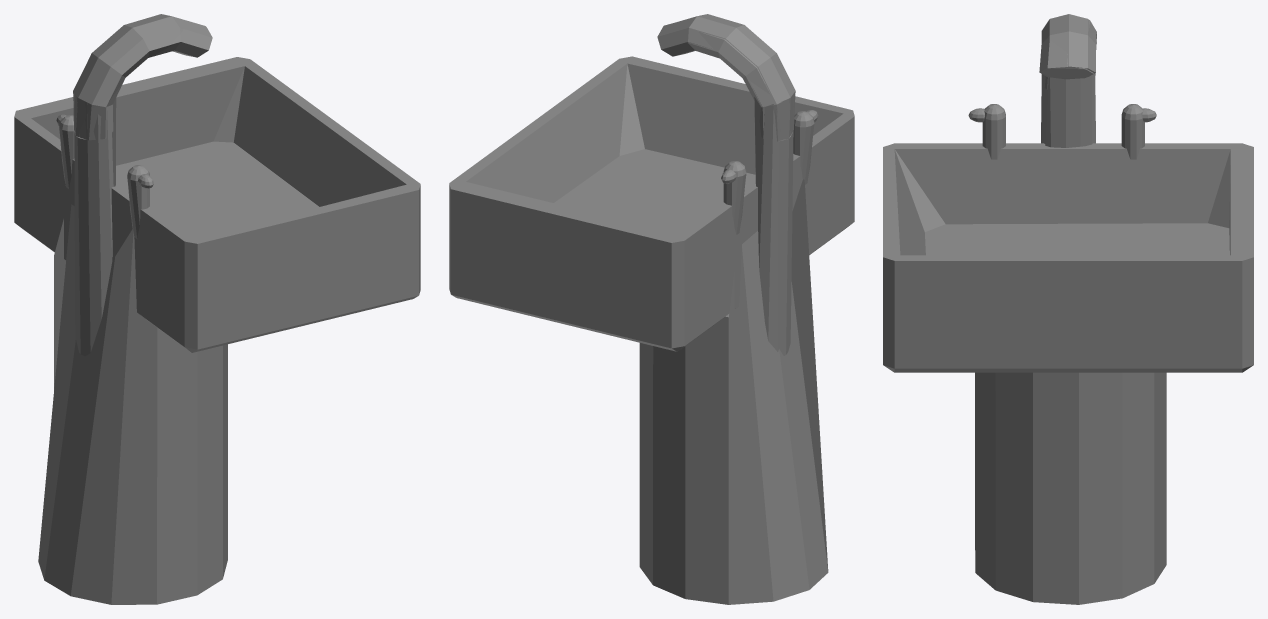
3 views of the same model, side by side, from view 1: azimuth 30°, elevation 25°; view 2: azimuth 150°, elevation 25°; view 3: azimuth 270°, elevation 25° (orthographic). The views are drawn at different scales.
Parts seen in each view (by area): view 1: beveled_cuboid; view 2: beveled_cuboid; view 3: beveled_cuboid.
Boxes of the visible parts, bbox=[...] form: beveled_cuboid: bbox=[14, 14, 420, 604]; beveled_cuboid: bbox=[449, 14, 854, 604]; beveled_cuboid: bbox=[883, 14, 1253, 604].
Size of the model in its own units: 0.9008 by 1.64 by 1.
1 material, 1 textured.
